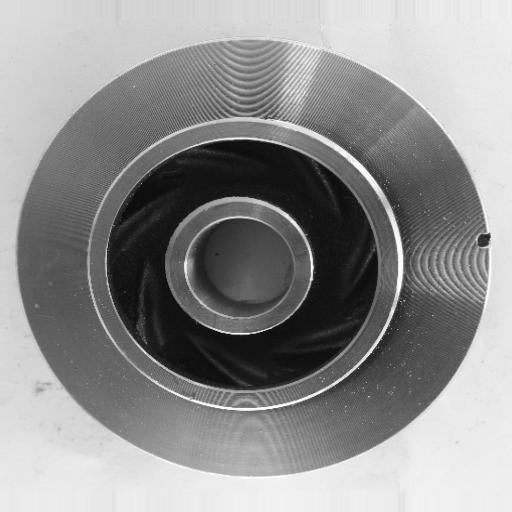pit: (465, 222, 497, 257)
unpolished_casting: (15, 37, 490, 479)
